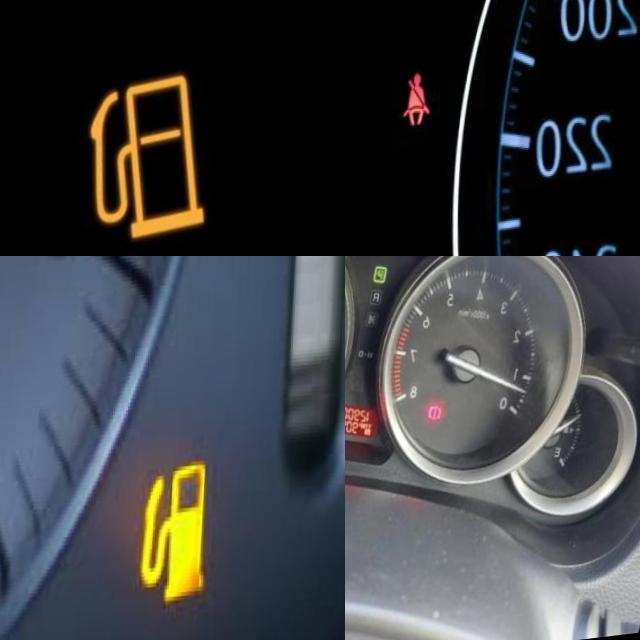Seat Belt: (402, 79, 438, 137)
